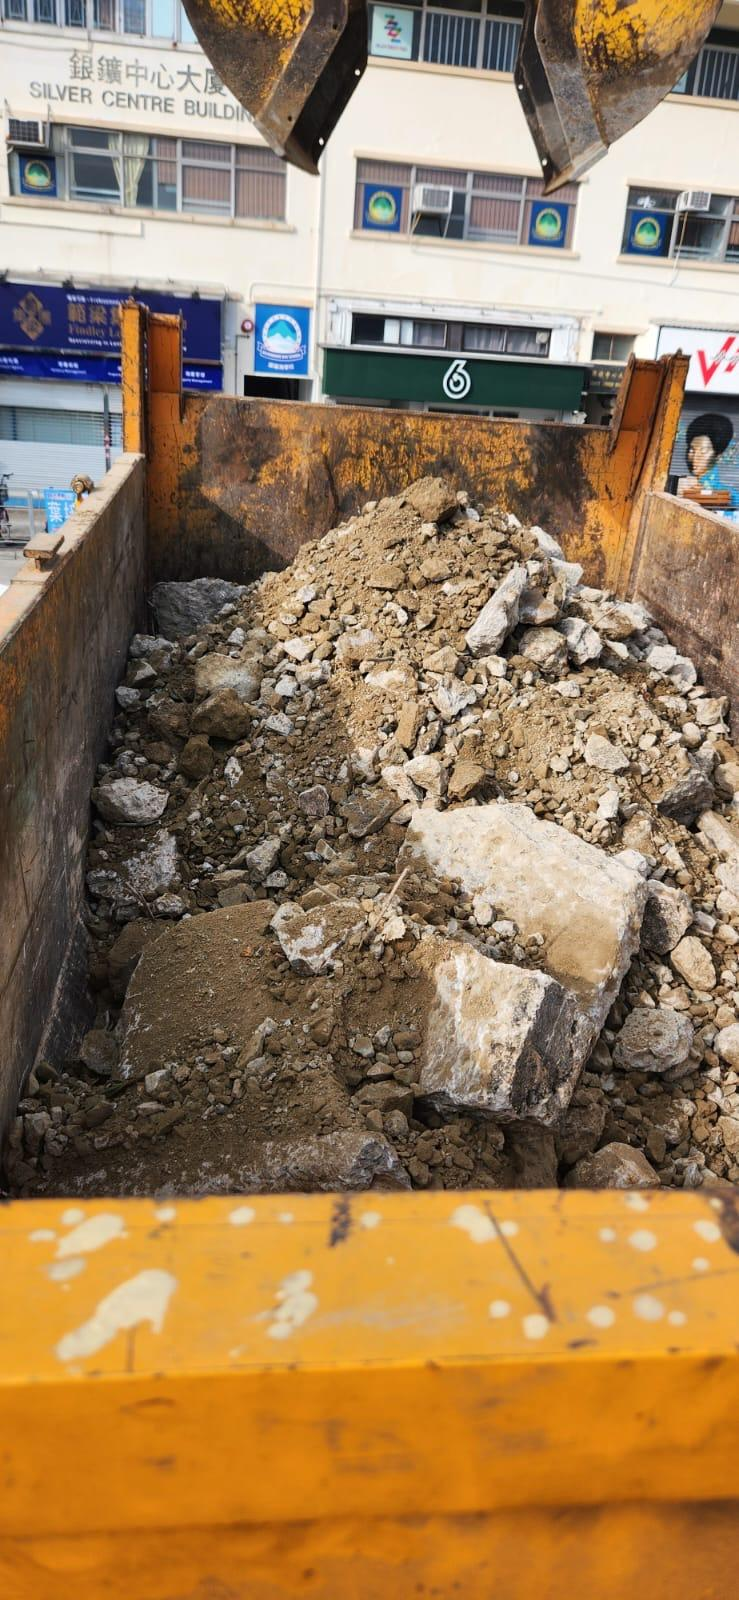stone: (15, 473, 737, 1194), (393, 797, 648, 1126), (611, 1004, 694, 1073)
